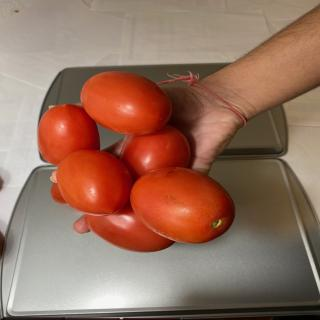Chilli: (37, 70, 236, 252)
Tomato: (130, 166, 236, 244), (80, 71, 173, 136), (56, 149, 133, 216), (84, 201, 175, 253), (119, 124, 191, 180), (37, 104, 100, 166)
